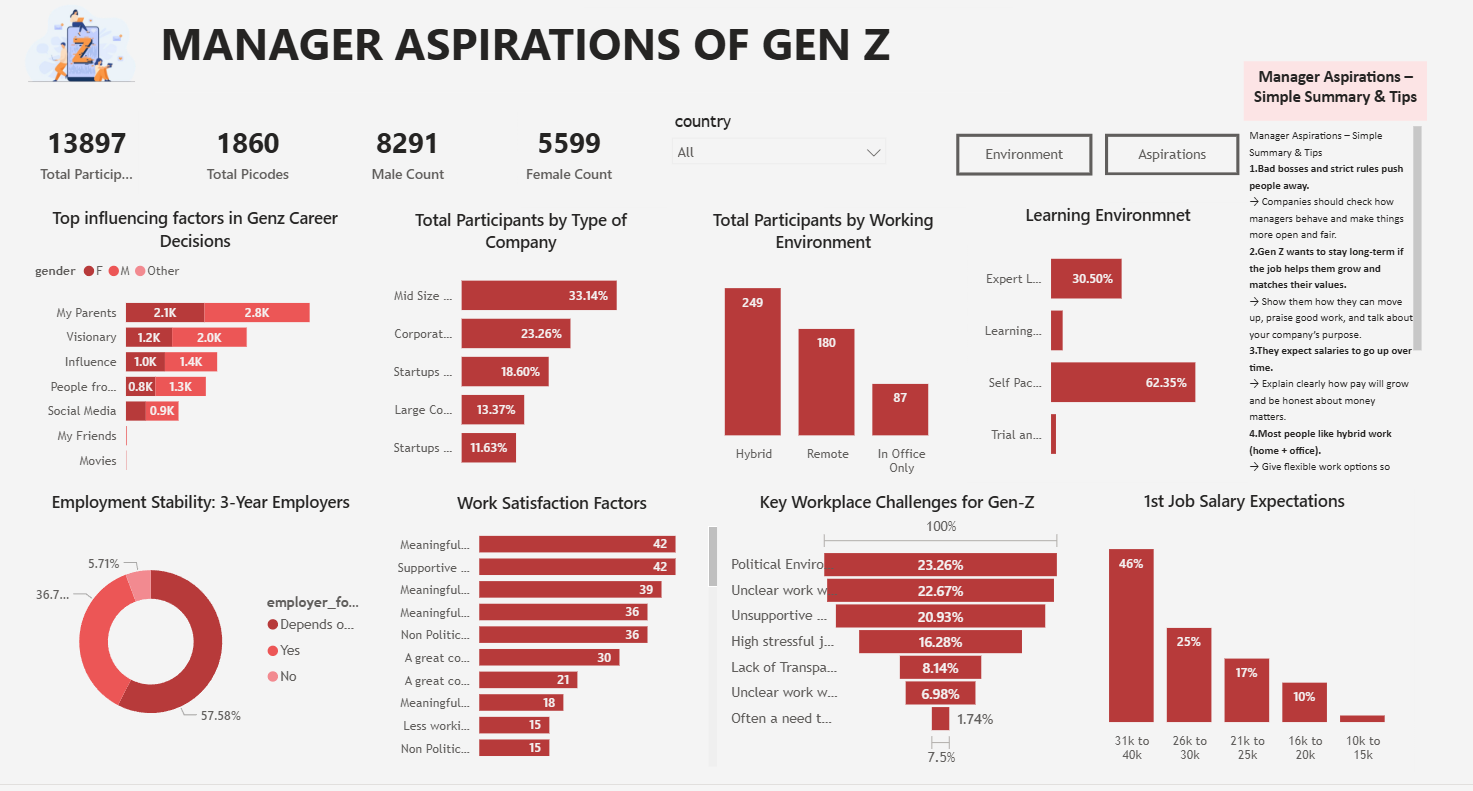

The dashboard page shown, as its layout file describes it:
{"tool":"powerbi","page":{"name":"MANAGER ASPIRATIONS OF GEN Z","canvas":[1366,768],"ordinal":0},"visuals":[{"type":"card","fields":{"Values":["cleaned_genz_data.Total Participants"]},"box":[19.3,117.7,100,80],"z":0},{"type":"card","fields":{"Values":["cleaned_genz_data.Total Picodes"]},"box":[175,117.7,100,80],"z":1000},{"type":"card","fields":{"Values":["cleaned_genz_data.Male Count"]},"box":[330.6,117.7,100,80],"z":2000},{"type":"card","fields":{"Values":["cleaned_genz_data.Female Count"]},"box":[486.3,117.7,100,80],"z":3000},{"type":"barChart","title":"Top influencing factors in Genz Career Decisions ","fields":{"Category":["genz_data survey_responses.influencing_factors"],"Y":["cleaned_genz_data.Total Participants"],"Series":["genz_data survey_responses.gender"]},"box":[14.6,209,319.2,270.2],"z":4000},{"type":"barChart","title":"Total Participants by Type of Company","fields":{"Y":["cleaned_genz_data.Total Participants"],"Category":["genz_data survey_responses.type_of_company"]},"box":[347.7,210.3,282.2,267.6],"z":5000},{"type":"clusteredColumnChart","title":"Total Participants by Working Environment","fields":{"Category":["genz_data survey_responses.working_environment"],"Y":["cleaned_genz_data.Total Participants"]},"box":[643.8,210.6,276.9,267.6],"z":6000},{"type":"donutChart","title":"Employment Stability: 3-Year Employers","fields":{"Category":["genz_data survey_responses.employer_for_3_years"],"Y":["cleaned_genz_data.Total Participants"]},"box":[14.8,483.2,330,272.1],"z":7000},{"type":"barChart","title":"Work Satisfaction Factors","fields":{"Y":["cleaned_genz_data.Total Participants"],"Category":["genz_data survey_responses.work_satisfaction_factors"]},"box":[353.7,484.8,329.8,271.6],"z":8000},{"type":"funnel","title":"Key Workplace Challenges for Gen-Z","fields":{"Category":["genz_data survey_responses.frustrating_factors"],"Y":["cleaned_genz_data.Total Participants"]},"box":[687.6,483.2,330,272.1],"z":9000},{"type":"columnChart","fields":{"Category":["genz_data survey_responses.salary_after_5_years"],"Y":["cleaned_genz_data.Total Participants"]},"box":[1024,483.5,329.8,272.9],"z":10000},{"type":"columnChart","title":"1st Job Salary Expectations","fields":{"Y":["cleaned_genz_data.Total Participants"],"Category":["genz_data survey_responses.starting_first_job"]},"box":[1024,482.9,329.8,272.9],"z":11000},{"type":"slicer","fields":{"Values":["genz_data survey_responses.country"]},"box":[625.3,112.6,227.8,75.5],"z":12000},{"type":"textbox","box":[135.7,17,829.6,82.2],"z":13000},{"type":"image","box":[0,0,135.1,99.4],"z":14000},{"type":"textbox","box":[1188.3,126.5,177.4,348.3],"z":15000},{"type":"textbox","box":[1188.3,69.1,177.4,57.4],"z":16000},{"type":"actionButton","box":[910.4,139.6,131.7,40.4],"z":17000},{"type":"actionButton","box":[1054,139,130,40.4],"z":18000},{"type":"barChart","title":"Learning Environmnet ","fields":{"Category":["genz_data survey_responses.learning_environment"],"Y":["cleaned_genz_data.Total Participants"]},"box":[921.3,205.2,271.6,270.1],"z":20000}]}

Visuals, with their boxes on the page's 1366x768 design canvas (x1, y1, x2, y2). These are canvas units, not pixel positions in the 1473x791 screenshot, which may show the page scaled, cropped or inside an application window:
card - cleaned_genz_data.Total Participants: x1=19, y1=118, x2=119, y2=198
card - cleaned_genz_data.Total Picodes: x1=175, y1=118, x2=275, y2=198
card - cleaned_genz_data.Male Count: x1=331, y1=118, x2=431, y2=198
card - cleaned_genz_data.Female Count: x1=486, y1=118, x2=586, y2=198
"Top influencing factors in Genz Career Decisions " barChart: x1=15, y1=209, x2=334, y2=479
"Total Participants by Type of Company" barChart: x1=348, y1=210, x2=630, y2=478
"Total Participants by Working Environment" clusteredColumnChart: x1=644, y1=211, x2=921, y2=478
"Employment Stability: 3-Year Employers" donutChart: x1=15, y1=483, x2=345, y2=755
"Work Satisfaction Factors" barChart: x1=354, y1=485, x2=684, y2=756
"Key Workplace Challenges for Gen-Z" funnel: x1=688, y1=483, x2=1018, y2=755
columnChart - genz_data survey_responses.salary_after_5_years x cleaned_genz_data.Total Participants: x1=1024, y1=484, x2=1354, y2=756
"1st Job Salary Expectations" columnChart: x1=1024, y1=483, x2=1354, y2=756
slicer - genz_data survey_responses.country: x1=625, y1=113, x2=853, y2=188
textbox: x1=136, y1=17, x2=965, y2=99
image: x1=0, y1=0, x2=135, y2=99
textbox: x1=1188, y1=126, x2=1366, y2=475
textbox: x1=1188, y1=69, x2=1366, y2=126
actionButton: x1=910, y1=140, x2=1042, y2=180
actionButton: x1=1054, y1=139, x2=1184, y2=179
"Learning Environmnet " barChart: x1=921, y1=205, x2=1193, y2=475
